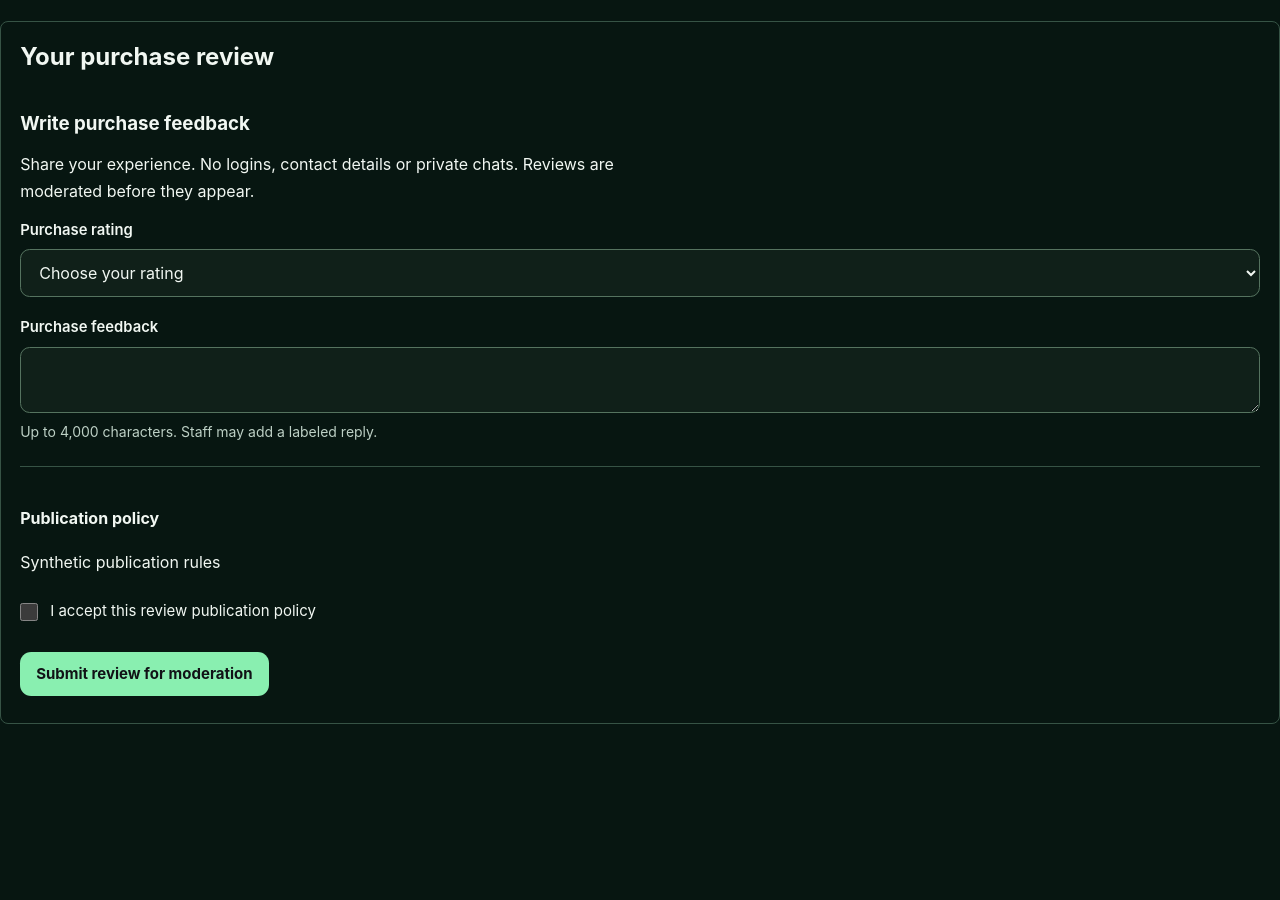
Test: retains customer wording and focuses the local notice after a stale-version failure
Select "2 — Poor" in the dropdown labelled "Purchase rating" at point(640, 273), box [20,249,1260,297]
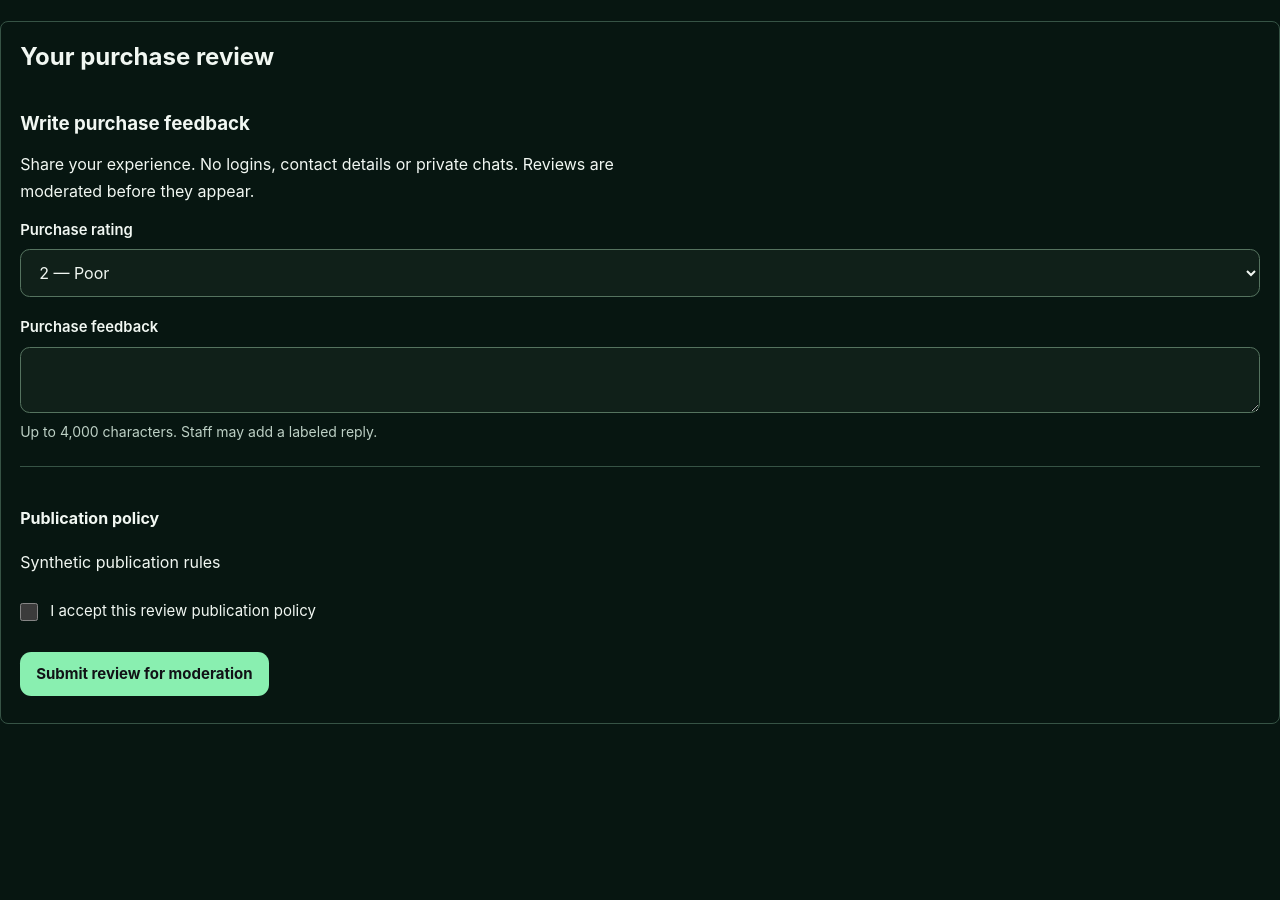
Type "Keep my unsaved feedback" into the text box labelled "Purchase feedback" at point(640, 380), box [20,347,1260,413]
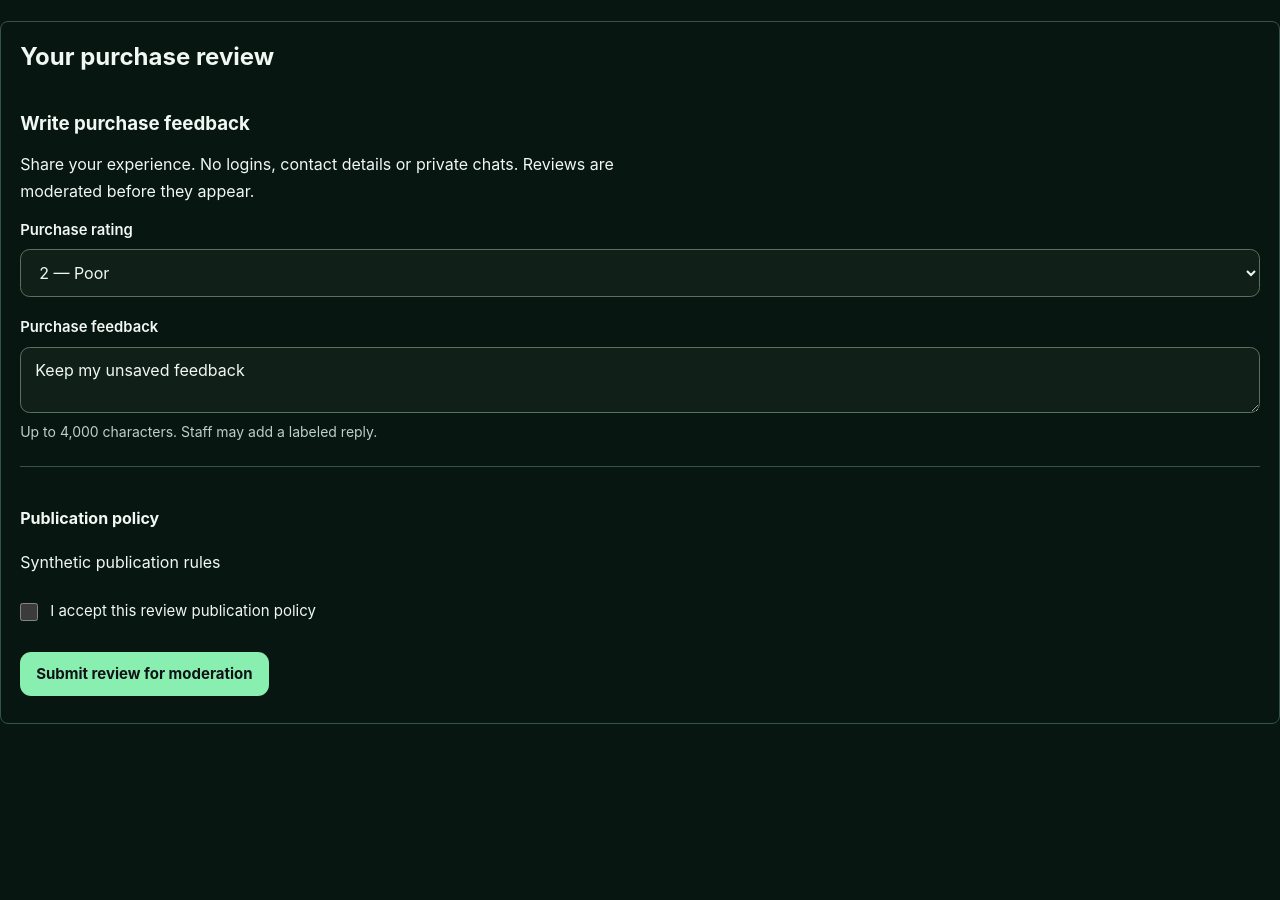
Click the checkbox labelled "I accept this review publication policy" at point(29, 612), box [20,603,38,621]
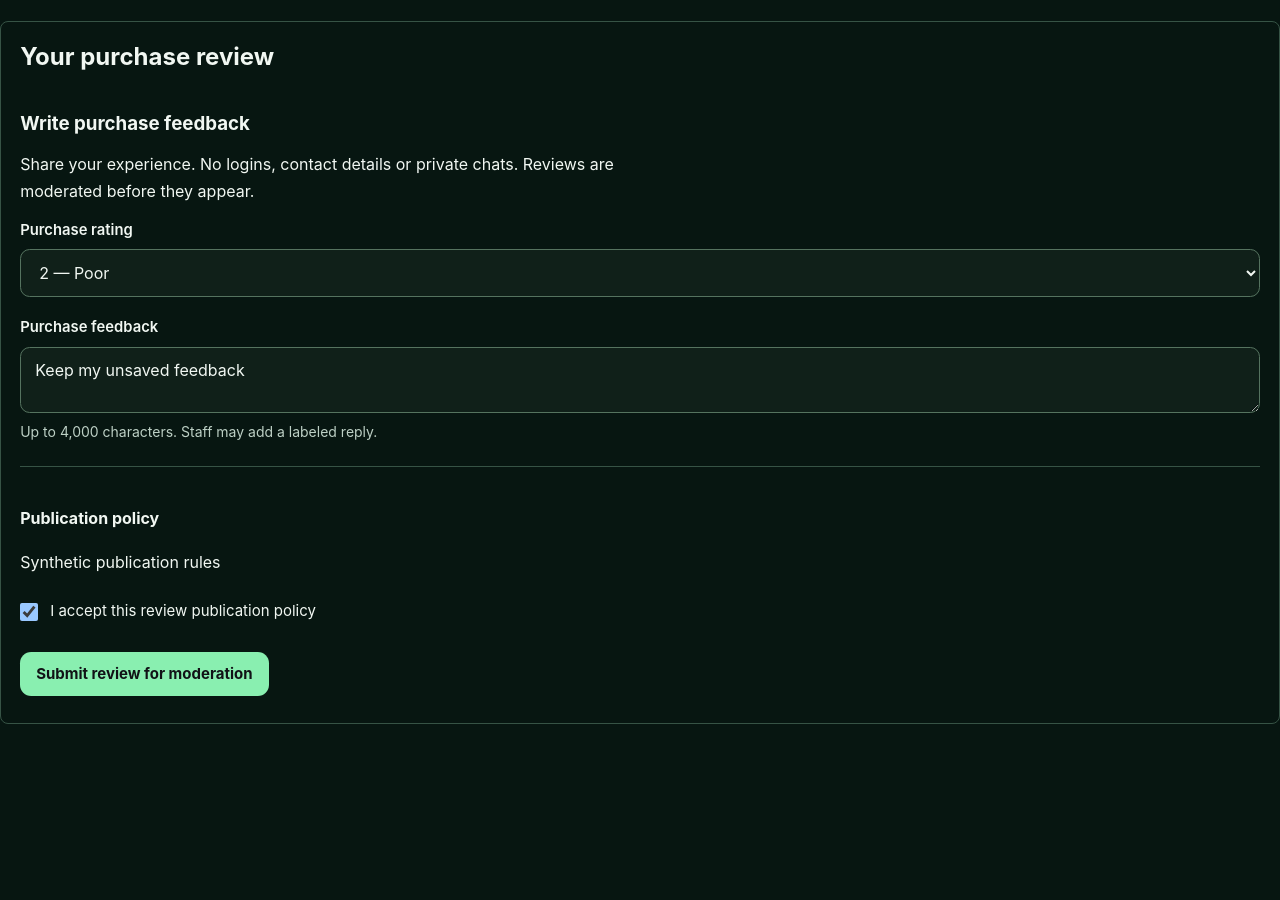
Click the button "Submit review for moderation" at point(144, 674), box [20,652,269,696]
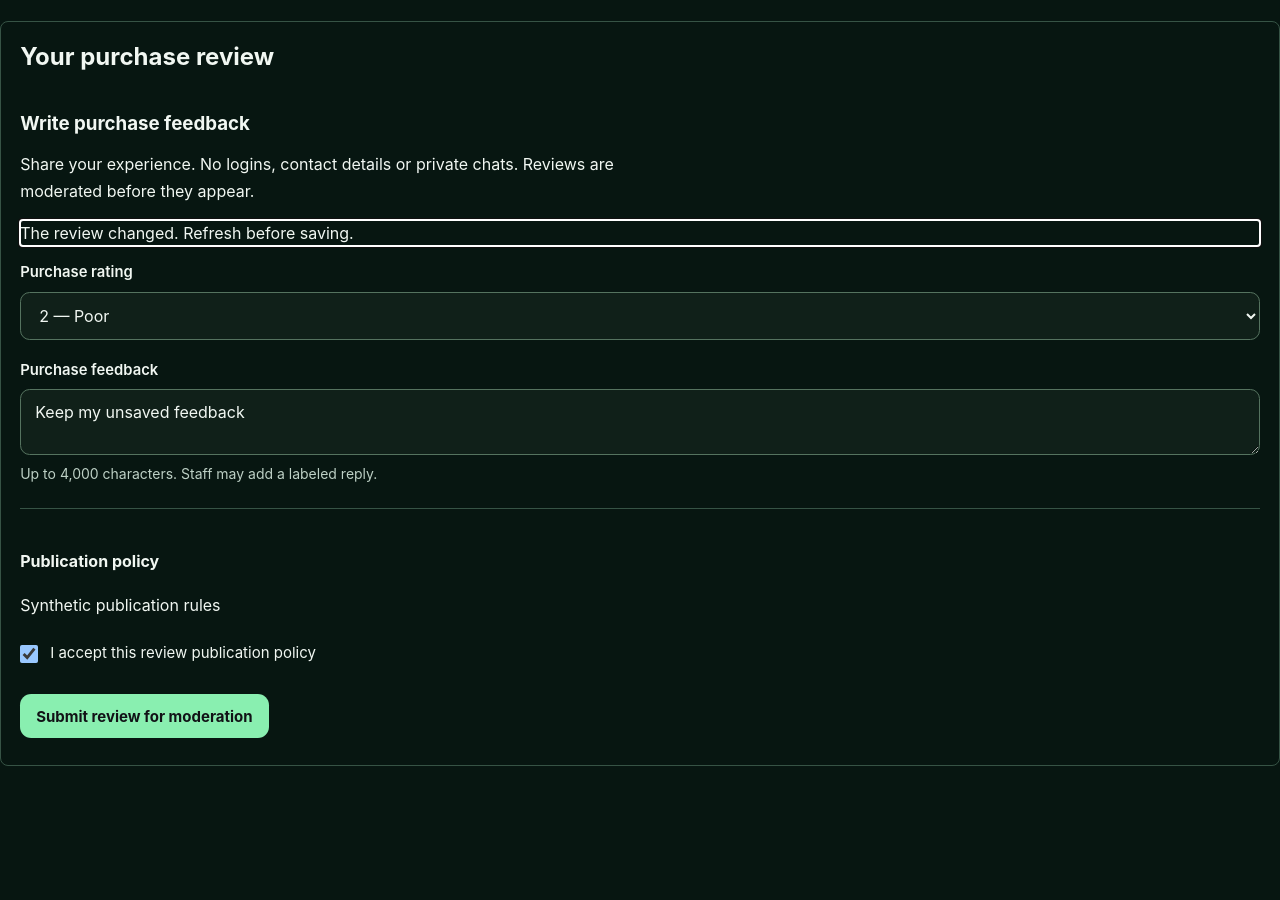
Result: the message shows "The review changed." at [20,223,354,243]
